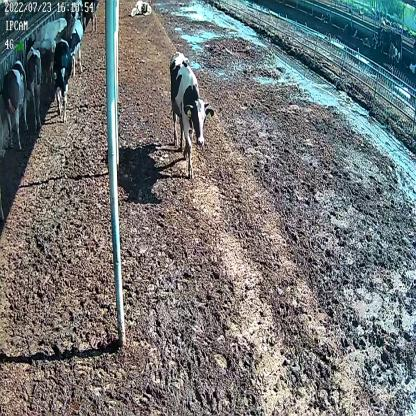cow: (170, 48, 216, 177), (4, 55, 28, 146), (52, 38, 73, 122), (25, 35, 43, 124), (68, 17, 83, 76), (130, 0, 152, 20)
